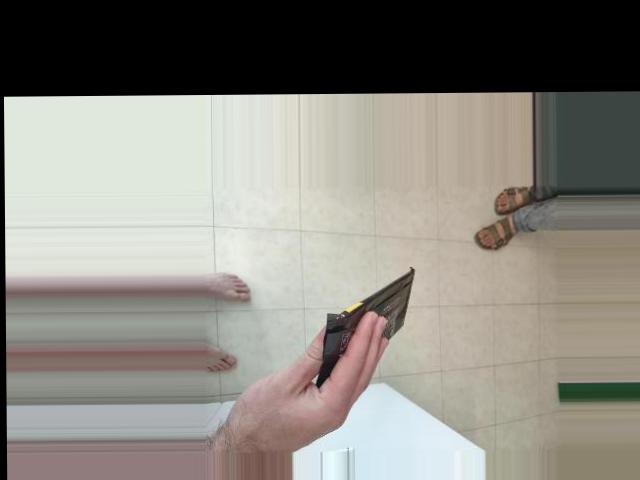chocolate: (338, 197, 480, 315)
